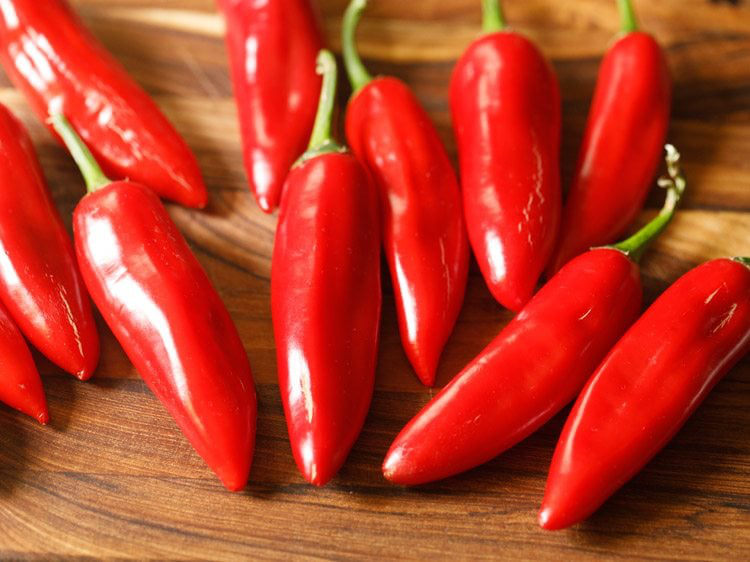Cabai: (256, 127, 401, 490)
